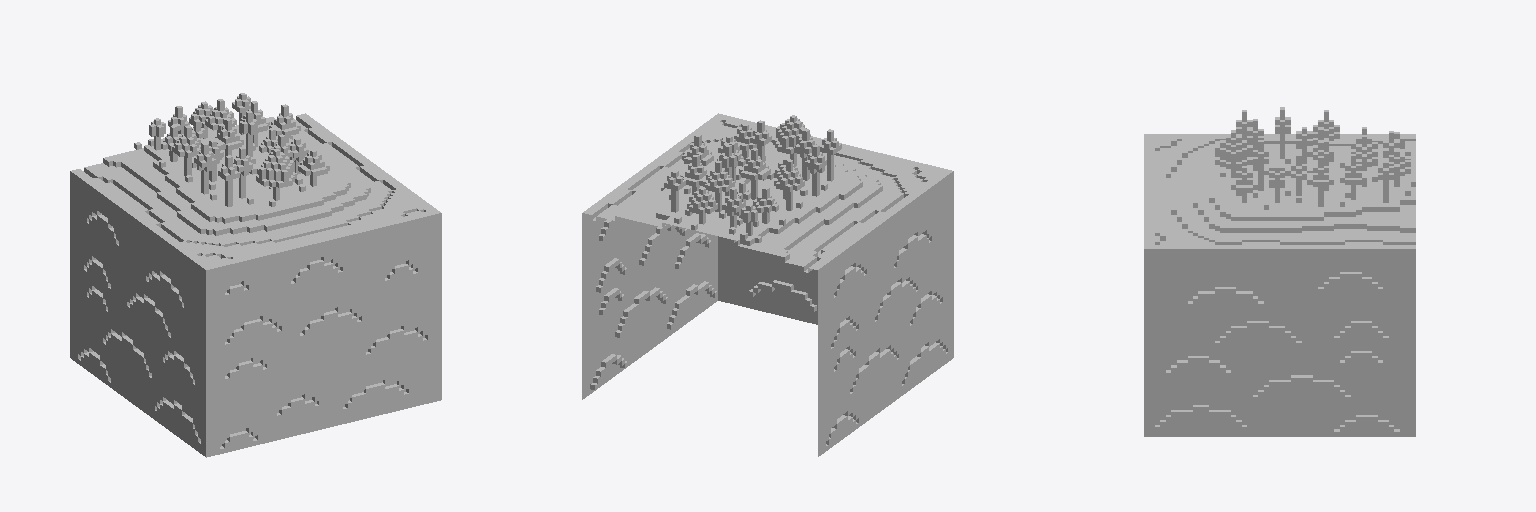
Rendered from 3sides.obj.
The picture shows the model from 3 angles: view 1: azimuth 30°, elevation 25°; view 2: azimuth 150°, elevation 25°; view 3: azimuth 270°, elevation 25°; orthographic projection.
Visible parts, largest first — view 1: Untitled.008; view 2: Untitled.008; view 3: Untitled.008.
Part boxes in pixels (x1,y1,x2,y2): Untitled.008: (70,93,441,457); Untitled.008: (582,113,953,456); Untitled.008: (1144,107,1415,436).
Bounding box in the file's own units: 5 × 5 × 5.